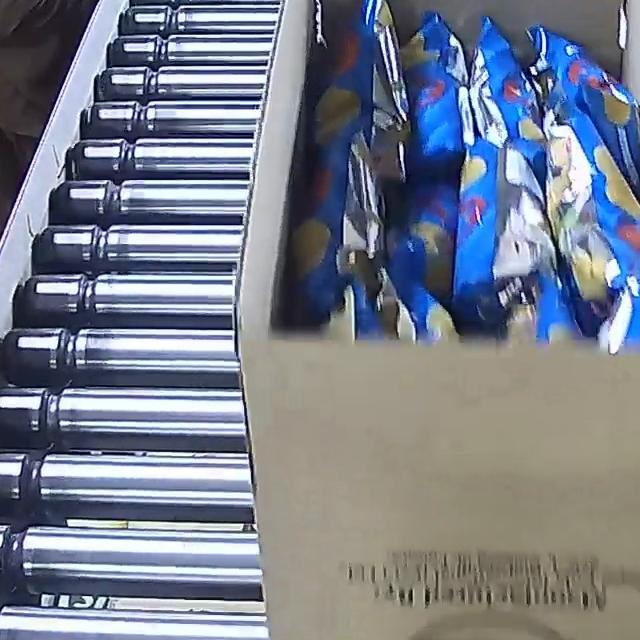paprika: (278, 0, 640, 351)
